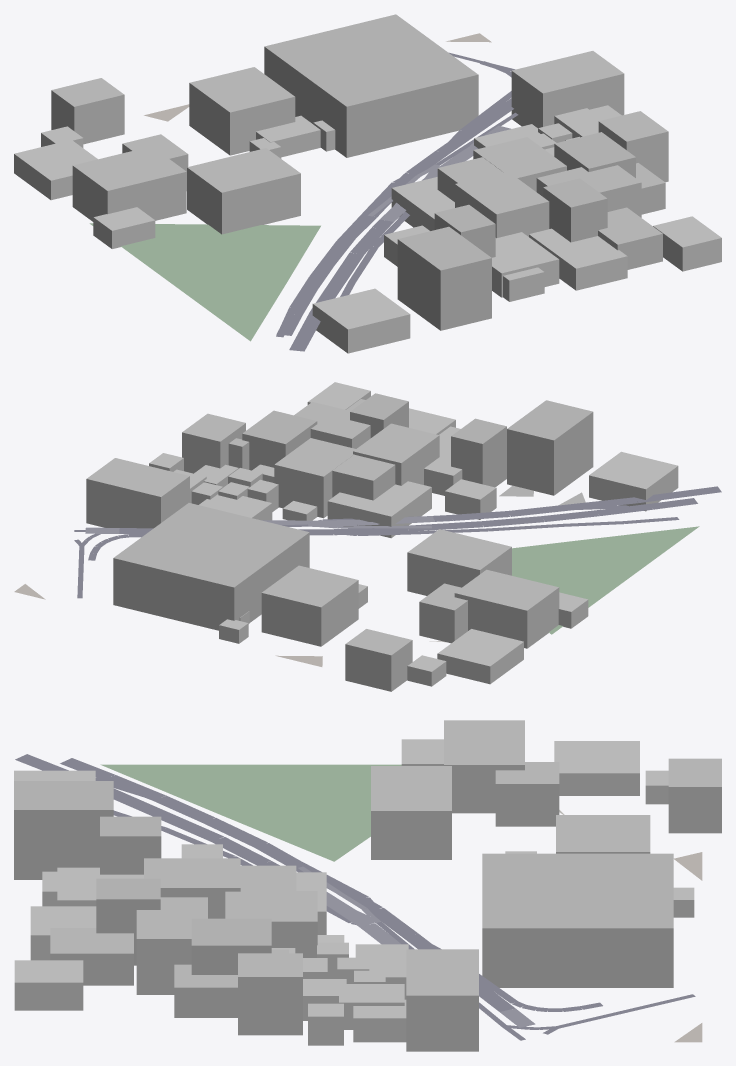
Rendered from 114_94_mid.glb.
The picture shows the model from 3 angles, top to bottom: view 1: azimuth 30°, elevation 25°; view 2: azimuth 150°, elevation 25°; view 3: azimuth 270°, elevation 25°; orthographic projection. The views are drawn at different scales.
Bounding box in the file's own units: 526 × 60.45 × 540.
